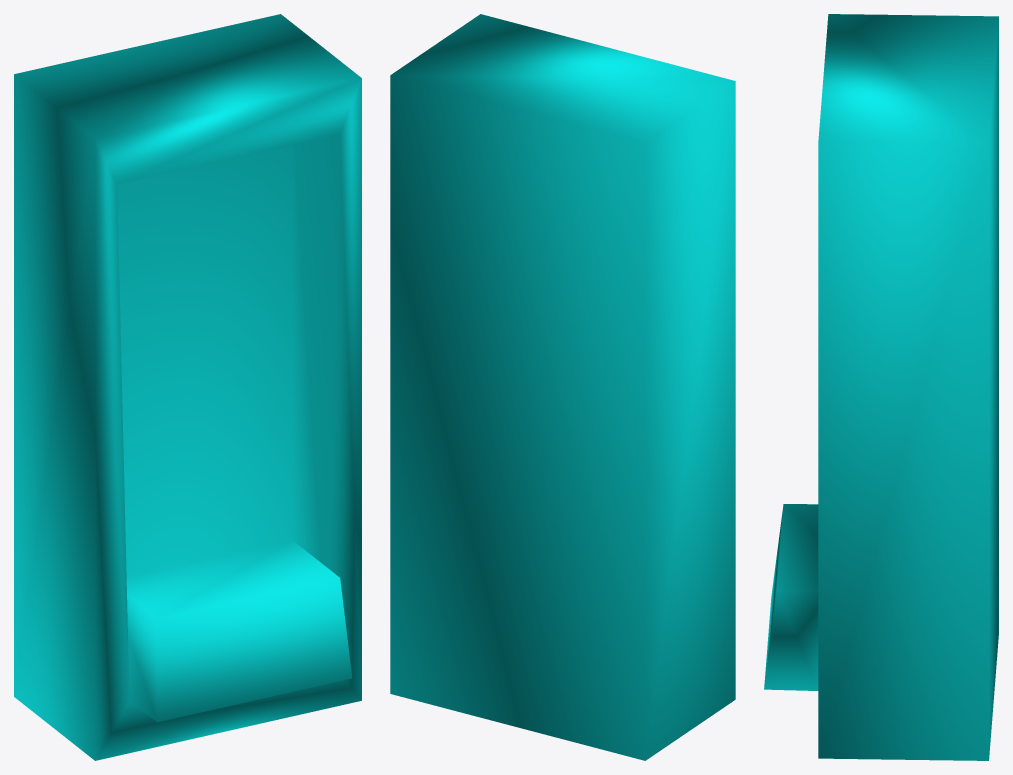
File: mdl_Corredor_Pantalla_publicidad.fbx
3 renders of one model, left to right at view 1: azimuth 30°, elevation 25°; view 2: azimuth 150°, elevation 25°; view 3: azimuth 270°, elevation 25°, orthographic.
Visible parts, largest first — view 1: mdl_Corredor_Pantalla_publicidad; view 2: mdl_Corredor_Pantalla_publicidad; view 3: mdl_Corredor_Pantalla_publicidad.
Boxes of the visible parts, x1=… form: mdl_Corredor_Pantalla_publicidad: x1=14, y1=14, x2=361, y2=760; mdl_Corredor_Pantalla_publicidad: x1=390, y1=14, x2=735, y2=760; mdl_Corredor_Pantalla_publicidad: x1=764, y1=14, x2=998, y2=760.
Size of the model in its own units: 1.49 by 3.32 by 1.14.
